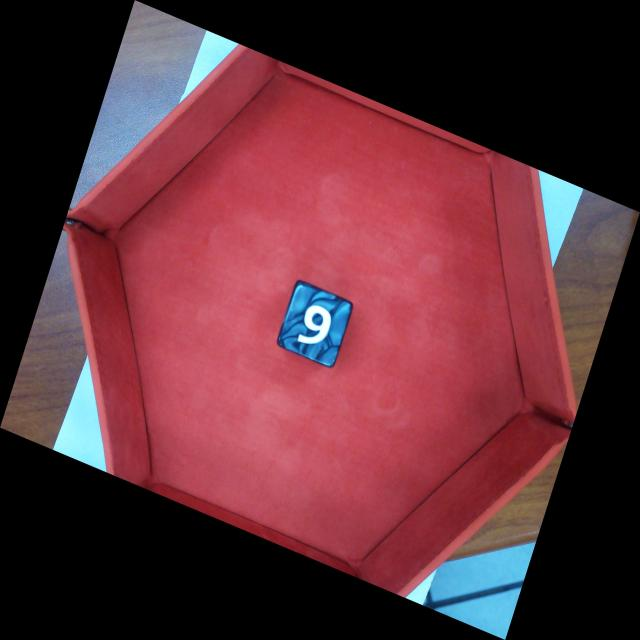dice: (278, 284, 355, 370)
